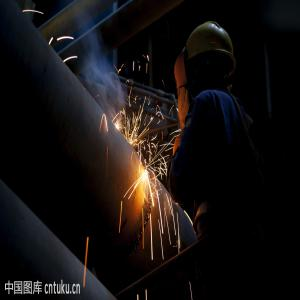yellow: (185, 19, 238, 99)
